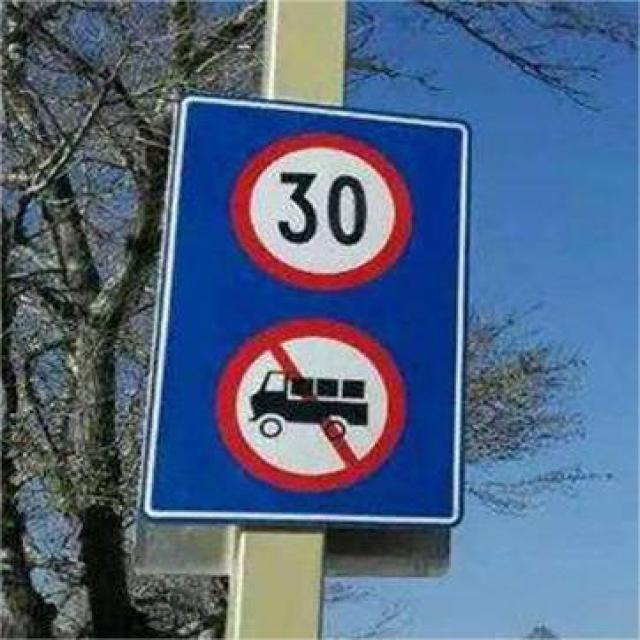speed limit 30: (230, 131, 411, 290)
